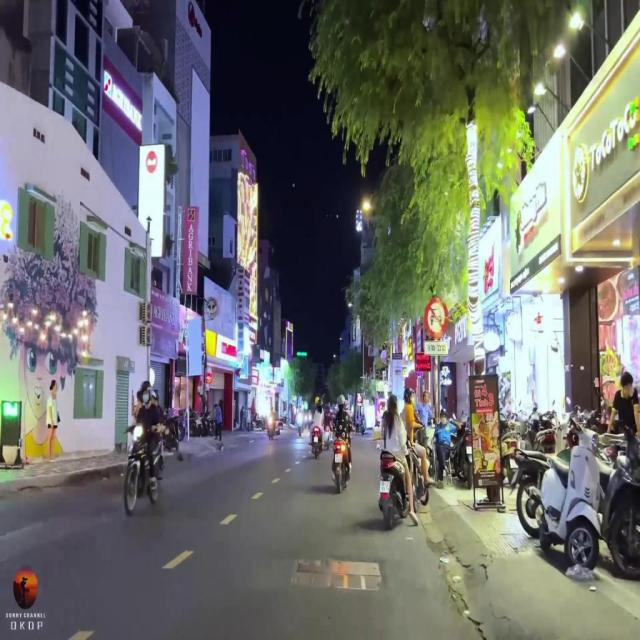cam_o_to: (424, 298, 448, 339)
khac: (425, 340, 448, 355)
